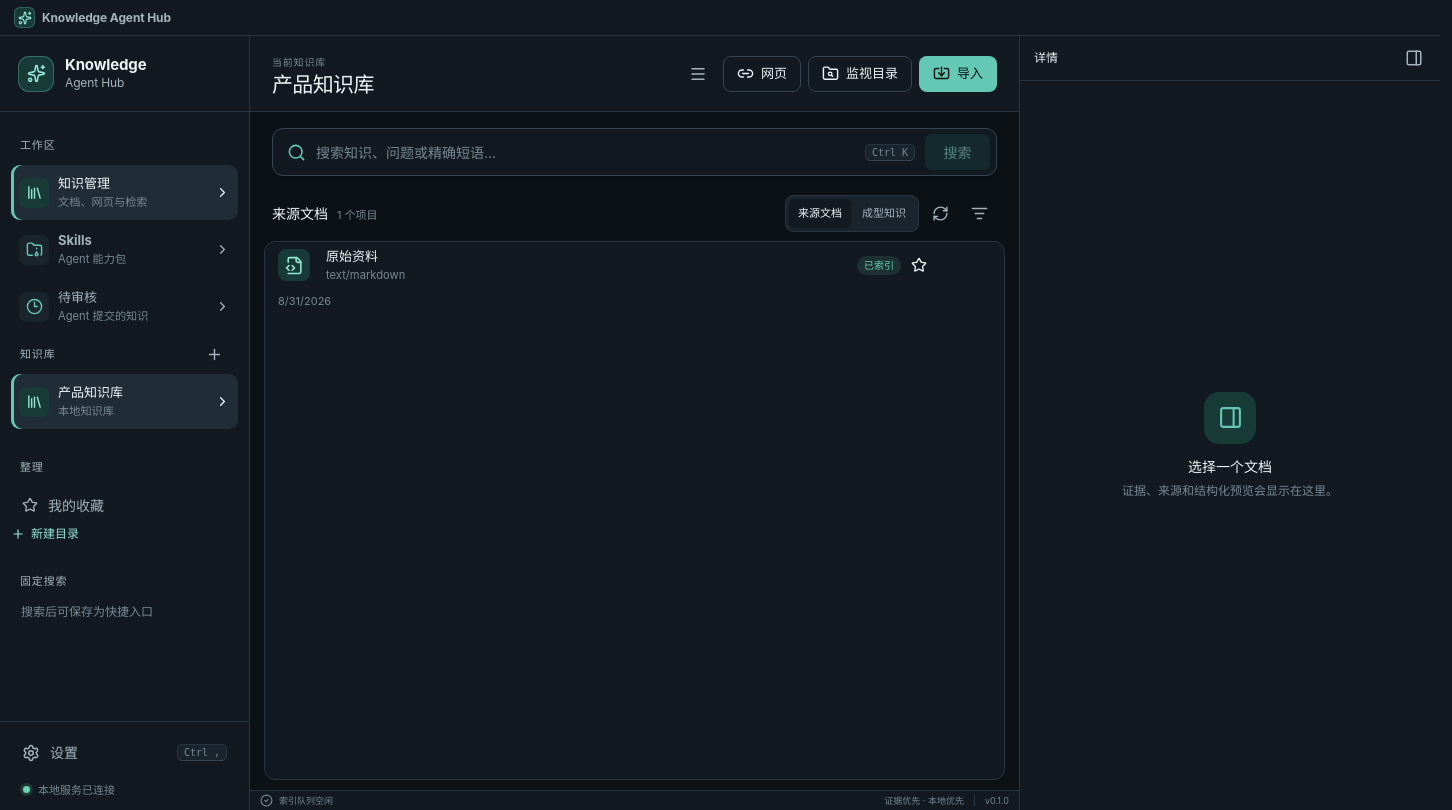
switches between source documents and published knowledge, with a collapsible detail pane
The image size is (1452, 810).
Check: the heading "产品知识库" is shown, box [272,72,374,97]
Check: the text "原始资料" is shown, box [326,248,378,264]
Click the button "成型知识". click: (884, 214)
box: [853,199,915,228]
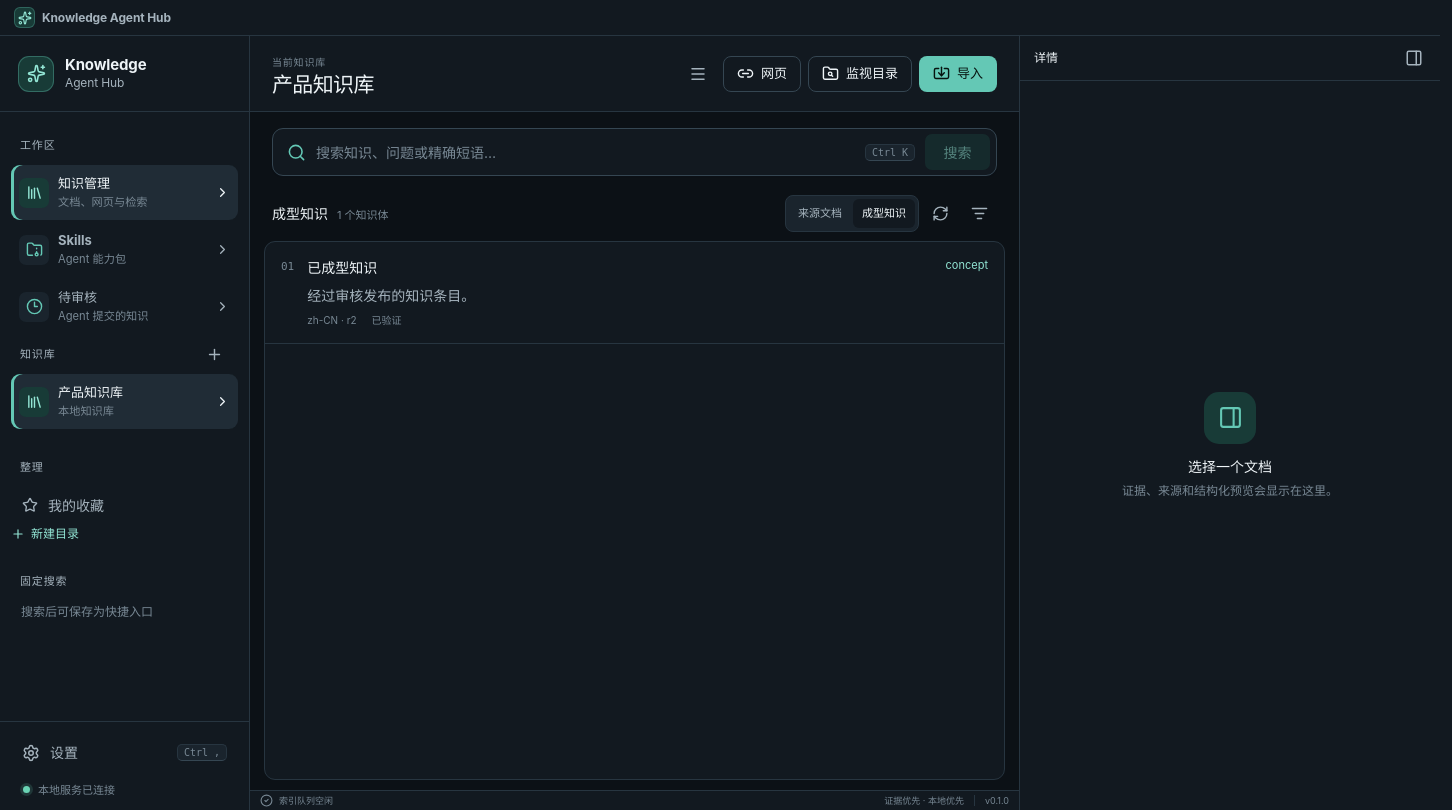
Check: the element named "成型知识详情" is shown, box [1020,36,1440,809]
Check: the text "已成型知识" is shown, box [307,257,377,278]
Click the button named "收起详情栏". click: (1414, 58)
box: [1396,40,1432,76]
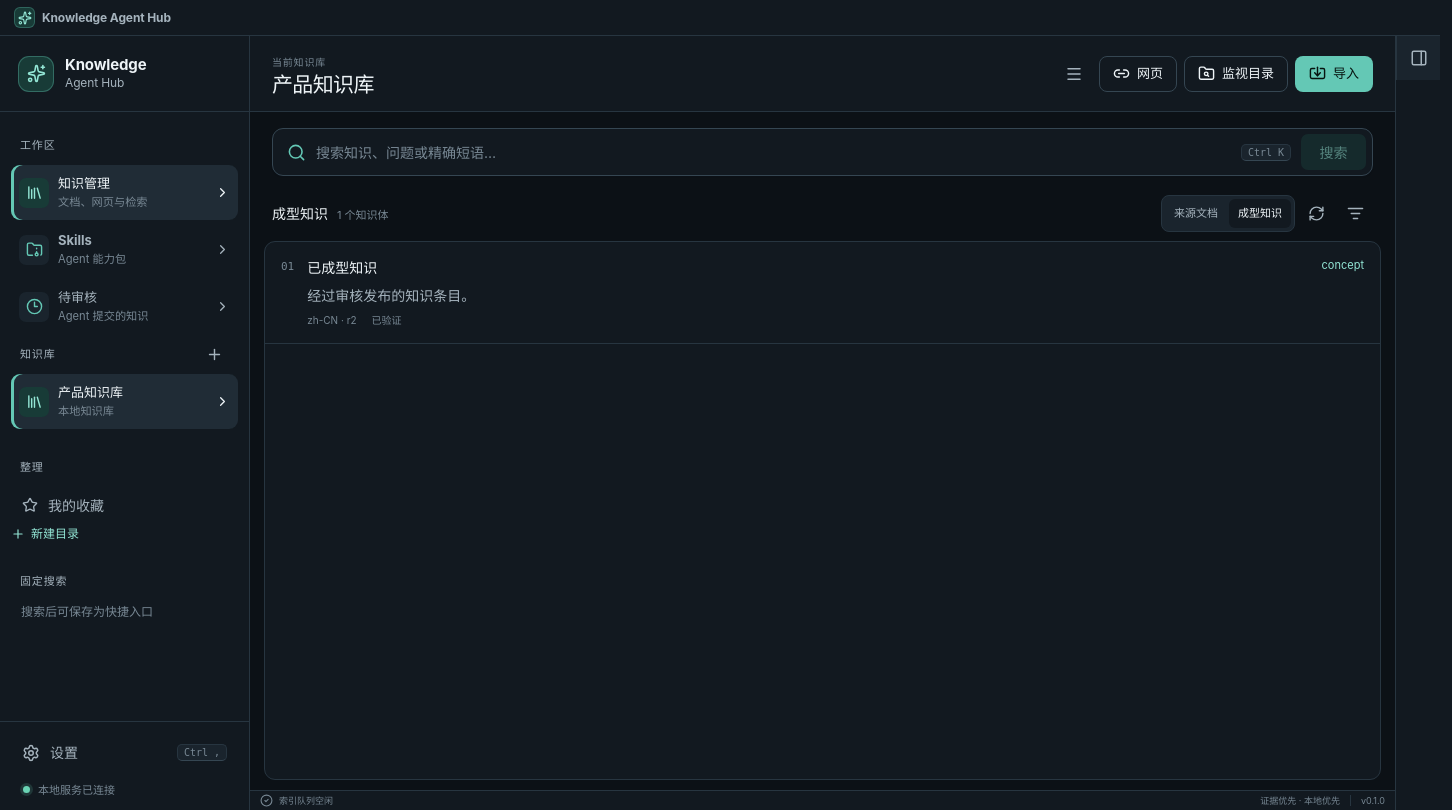
Check: the button named "展开详情栏" is shown
Check: the element named "已折叠的详情栏" is shown, box [1396,36,1440,809]
Click the button named "展开详情栏". click: (1418, 58)
box: [1396,36,1440,80]
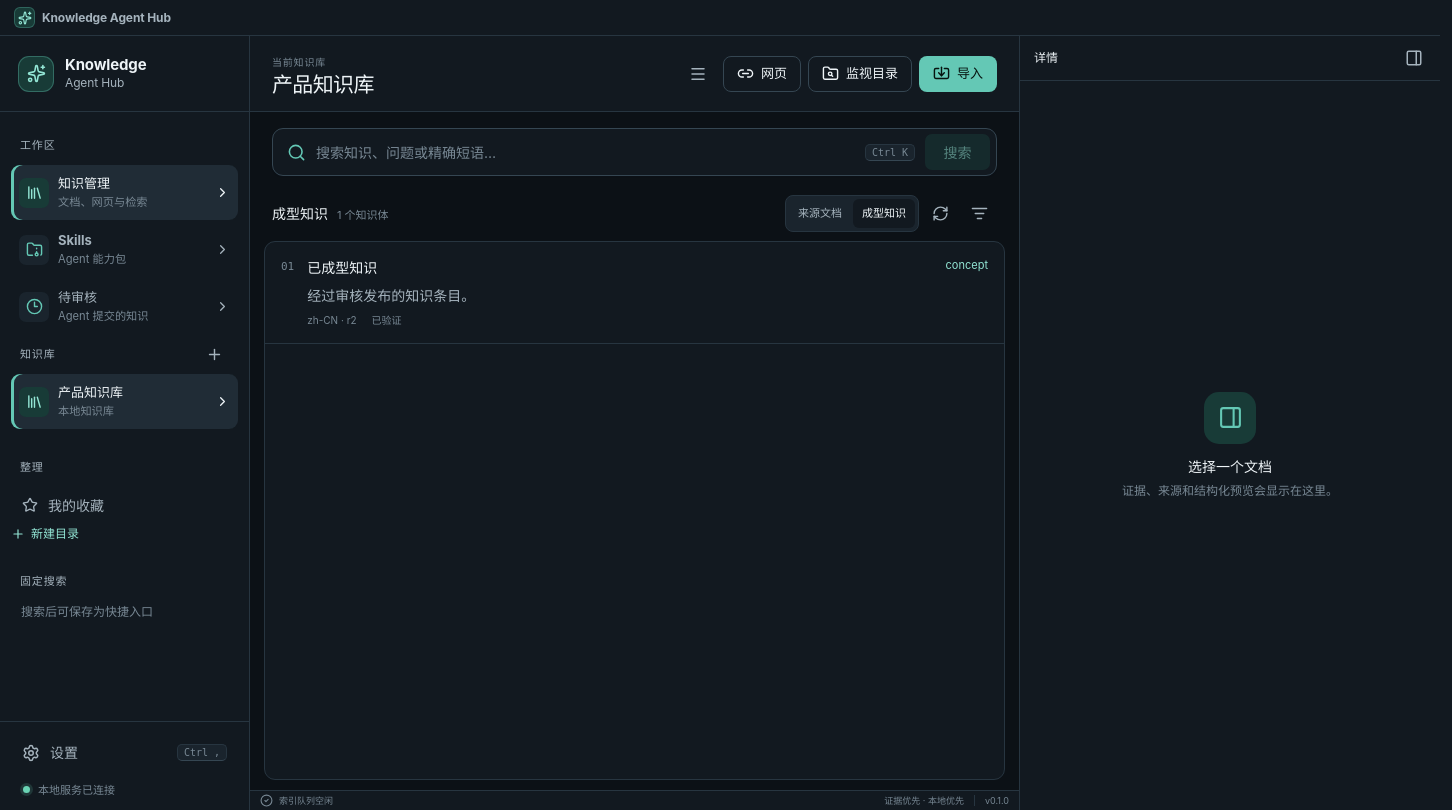
Click the button "来源文档". click: (820, 214)
box: [789,199,851,228]
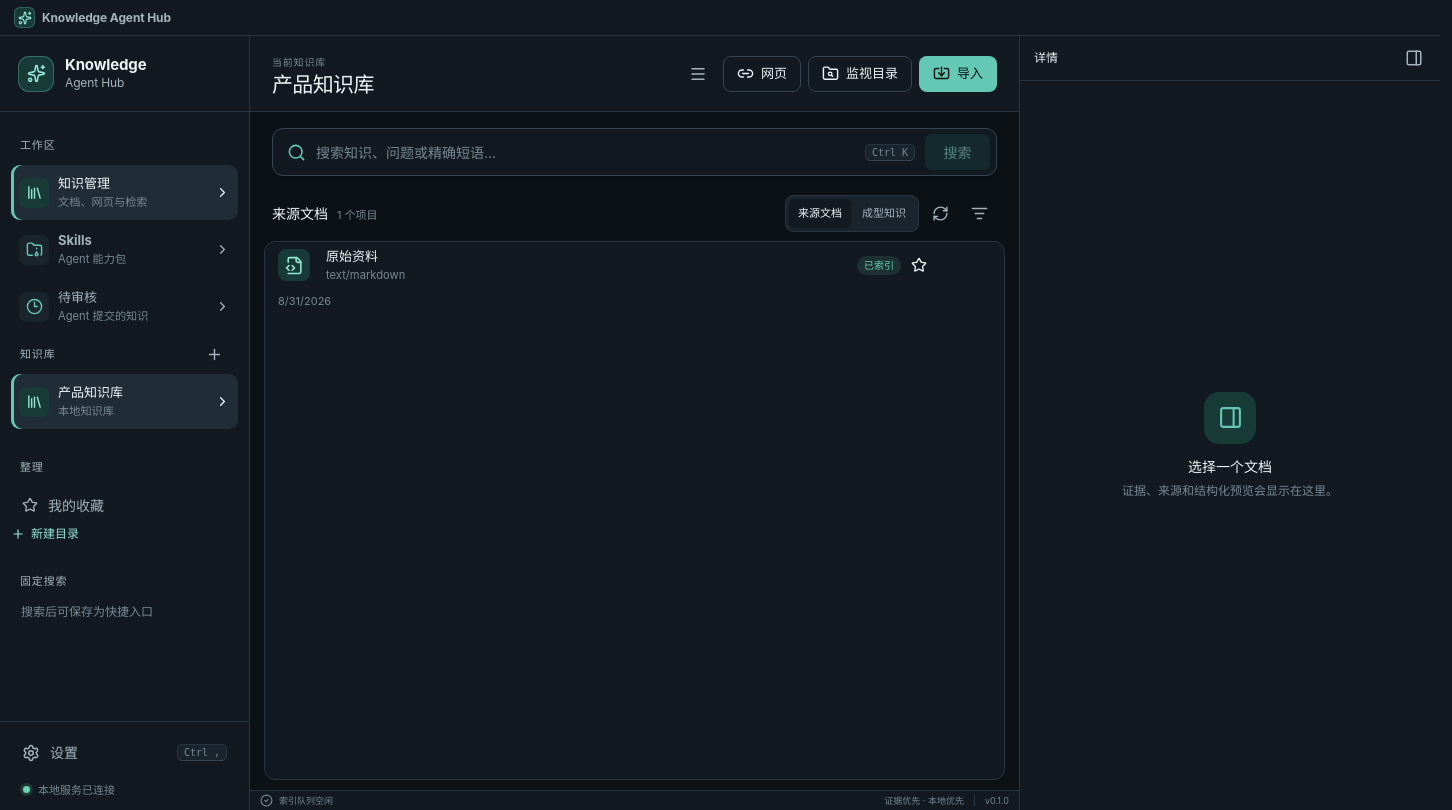
Check: the text "原始资料" is shown, box [326,248,378,264]
